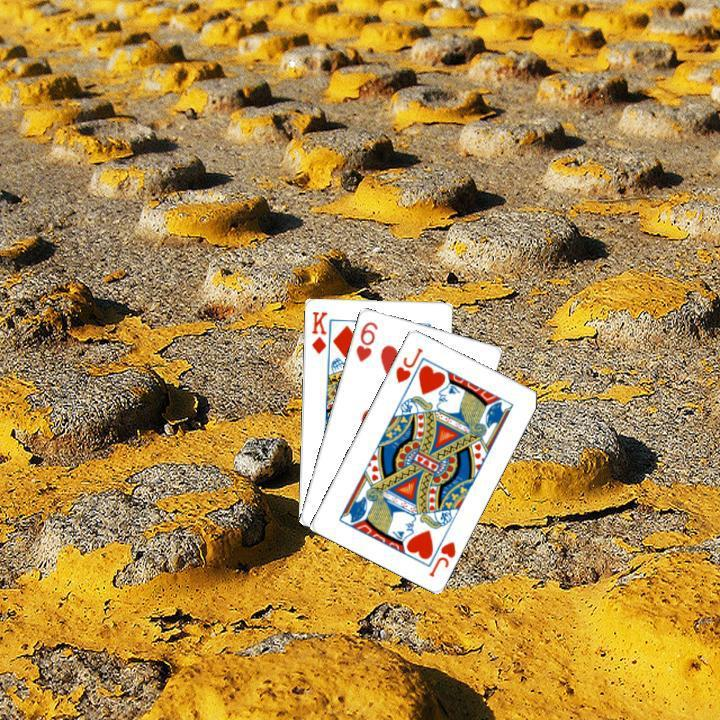6: (351, 317, 379, 363)
J: (391, 343, 425, 385), (424, 537, 458, 579)
K: (307, 307, 329, 356)
